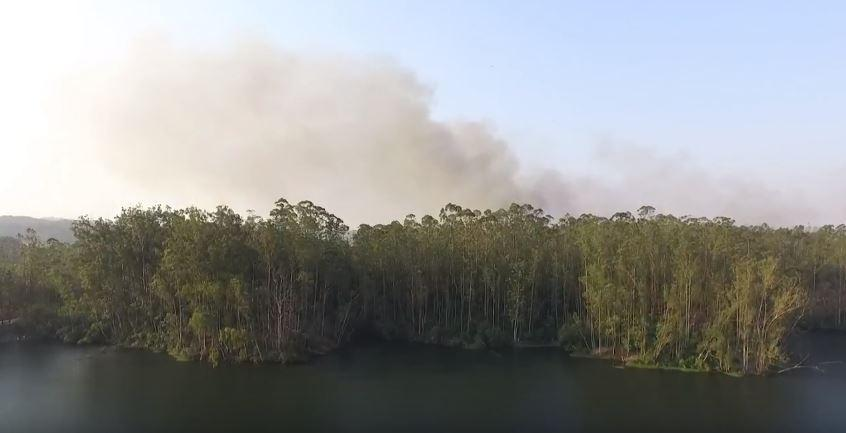smoke: (364, 118, 474, 192)
